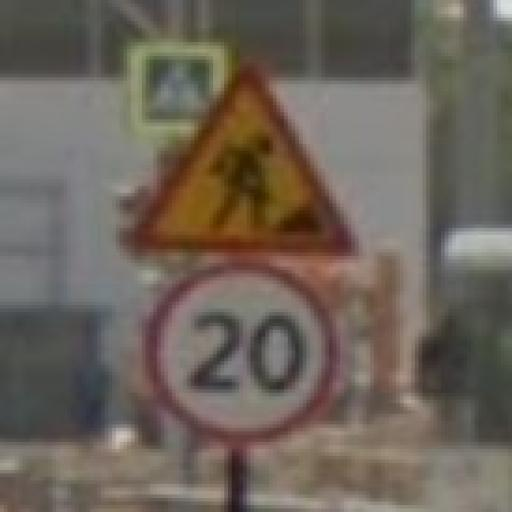traffic_sign: (132, 57, 356, 261), (143, 261, 341, 447)
